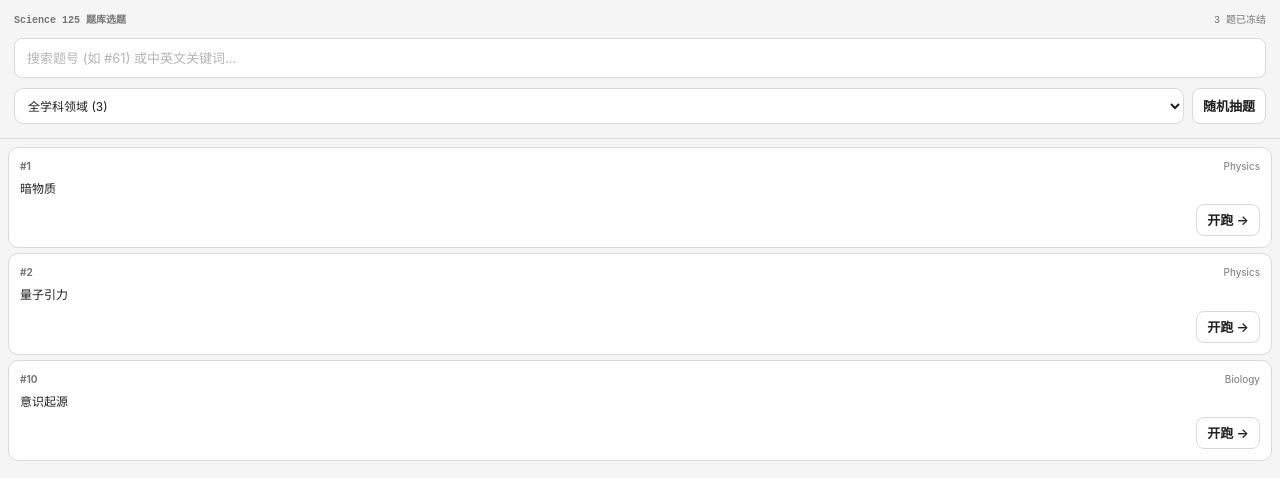
Test case: QuestionSidebar › 搜索过滤题目
Check: the element with test id "question-row-1" is shown, box top-left (8, 147), bottom-right (1272, 248)
Type "意识" into the search field with test id "question-search" at coordinates (640, 58), box top-left (14, 38), bottom-right (1266, 78)
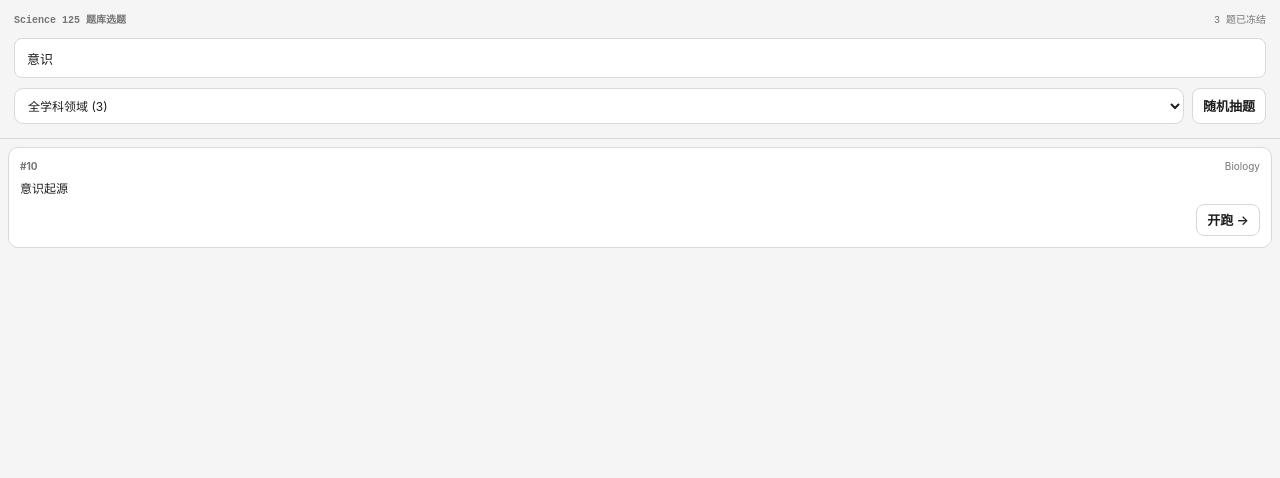
Check: the element with test id "question-row-10" is shown, box top-left (8, 147), bottom-right (1272, 248)
Check: the element with test id "question-row-1" is gone
